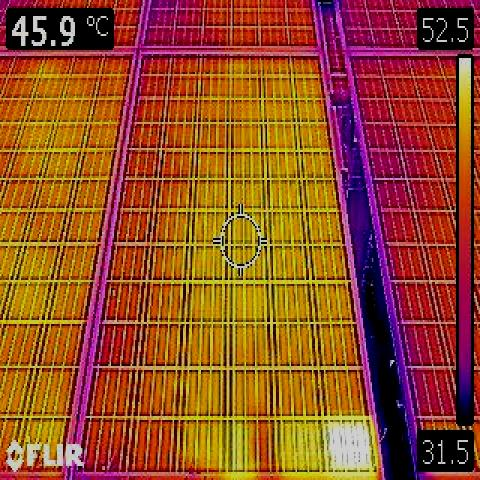fault: (324, 415, 374, 476)
